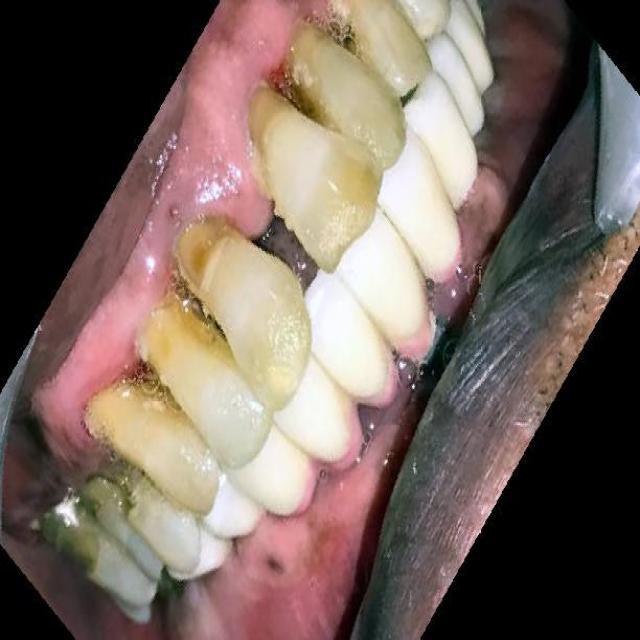caries: (233, 63, 295, 169), (41, 494, 110, 584), (172, 203, 236, 299)
